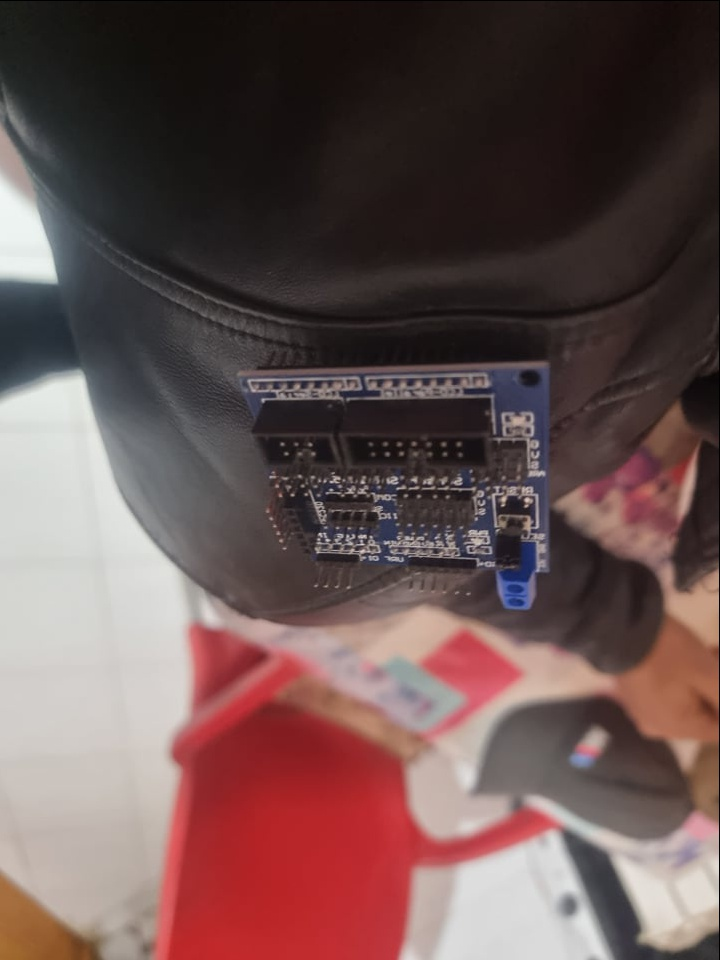5V EXPANSION: (240, 359, 555, 610)
